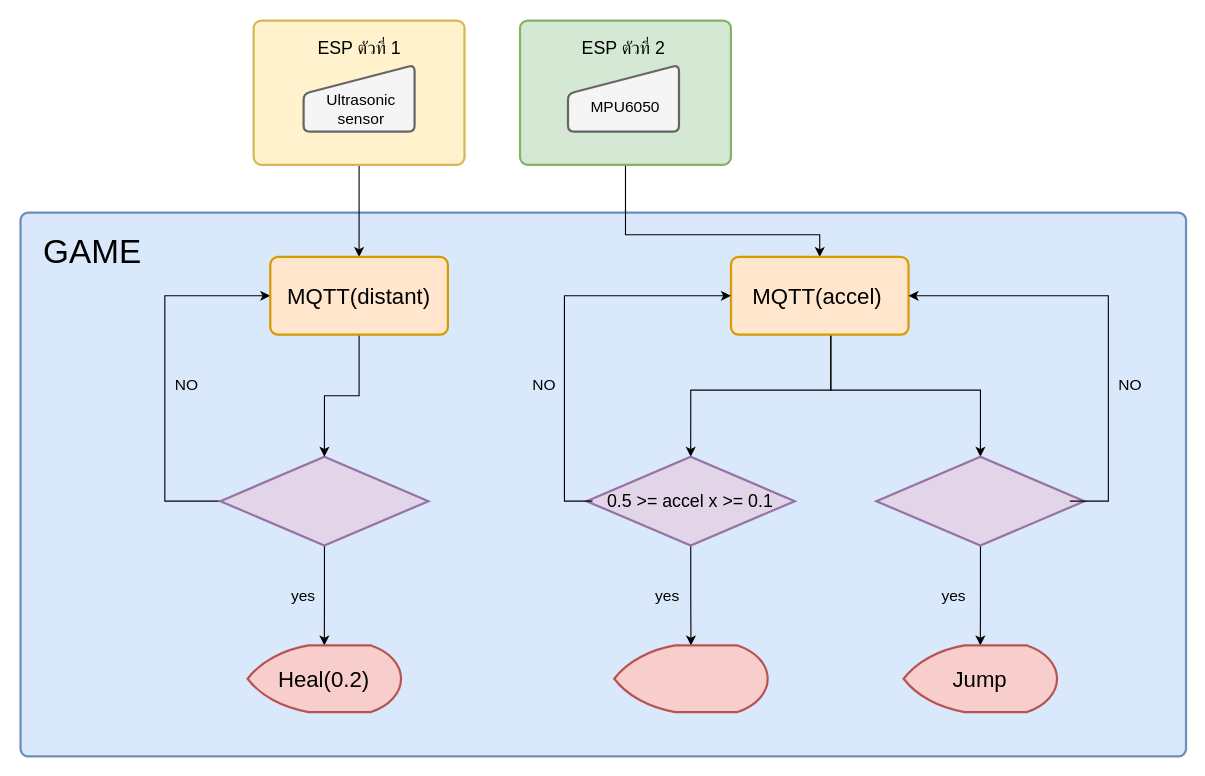
The diagram is 1205 pixels wide and 776 high, and some of its shapes have lost their labels. The box of each missing label's shape, as (x1, y1, x2, y2) in pixels:
accel y <=1: (875, 455, 1085, 546)
distant < 5 cm.: (219, 455, 429, 546)
Walk: (613, 644, 768, 713)
